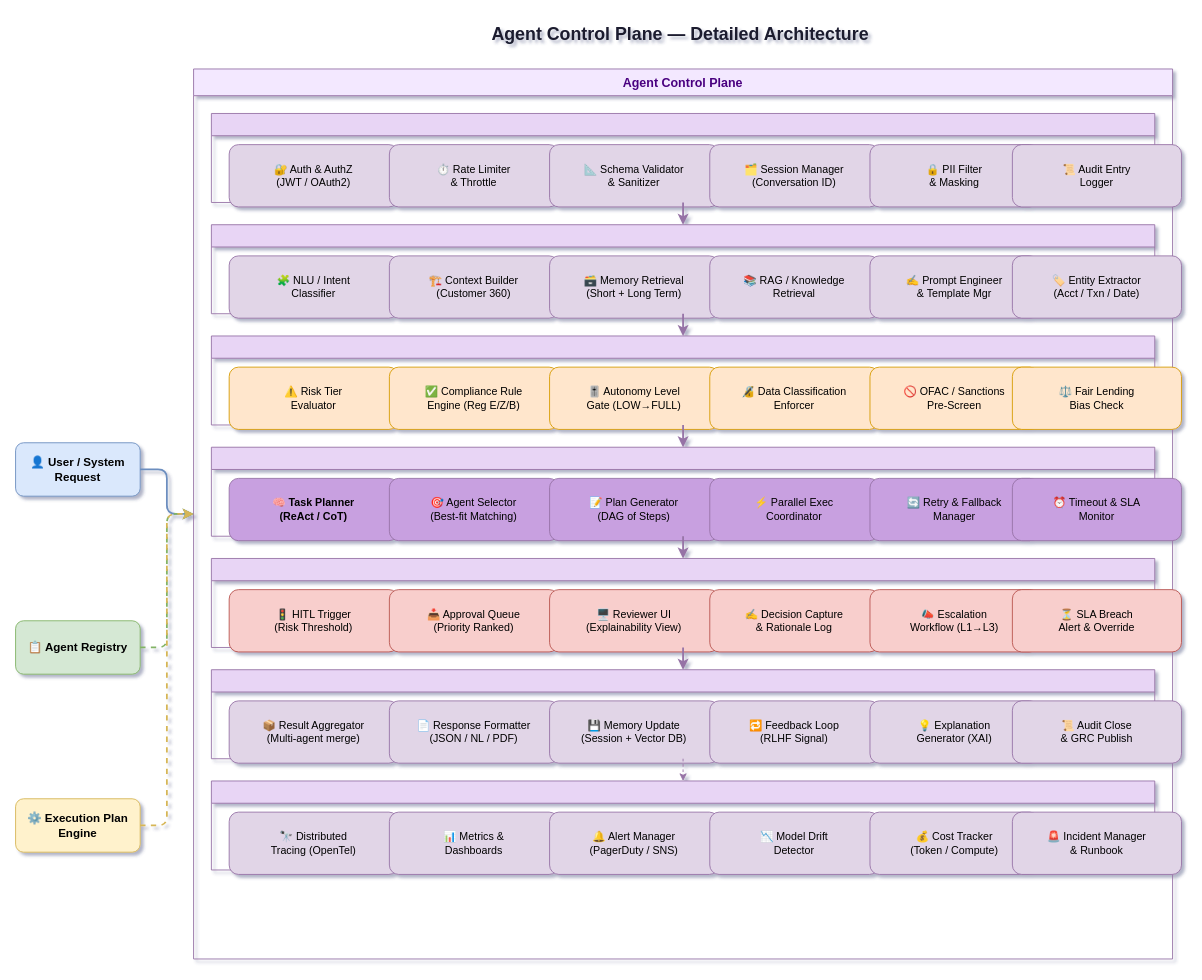
The diagram is 1202 pixels wide and 980 high, and some of its shapes have lost their labels. Each missing label, with the box of its shape:
Human-in-the-Loop & Approval: (210, 558, 1155, 647)
Ingestion & Auth Layer: (210, 113, 1155, 202)
Intent & Context Layer: (210, 224, 1155, 314)
Observability & Telemetry: (210, 780, 1155, 870)
Orchestration Core: (210, 446, 1155, 536)
Policy & Compliance Gate: (210, 335, 1155, 425)
Response Assembly & Memory Update: (210, 669, 1155, 759)
